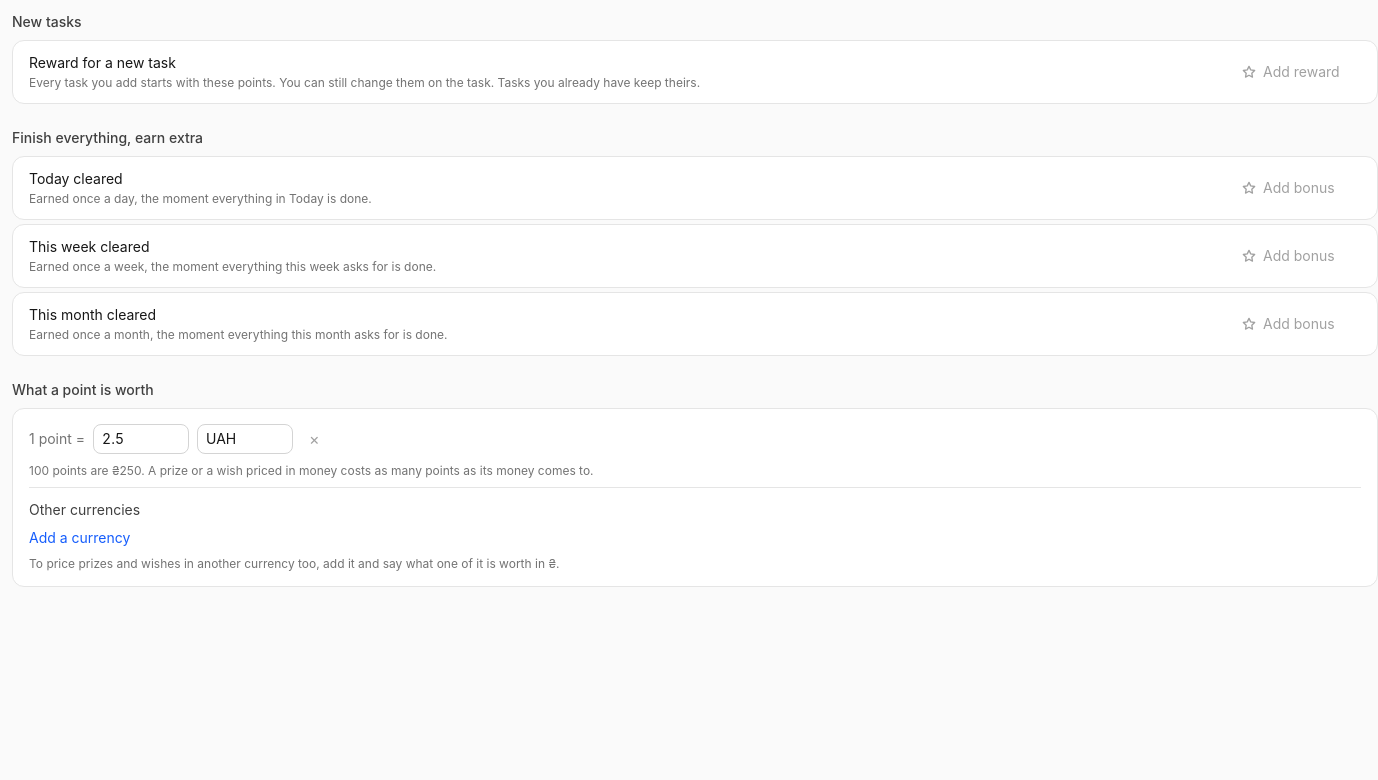
Test: what a point is worth (RWD-31) › puts a box saying something that is not a rate back to what is saved
This screenshot has width=1378, height=780.
Clear the number field named "Money one point is worth" at [141, 439], box [93,424,189,454]
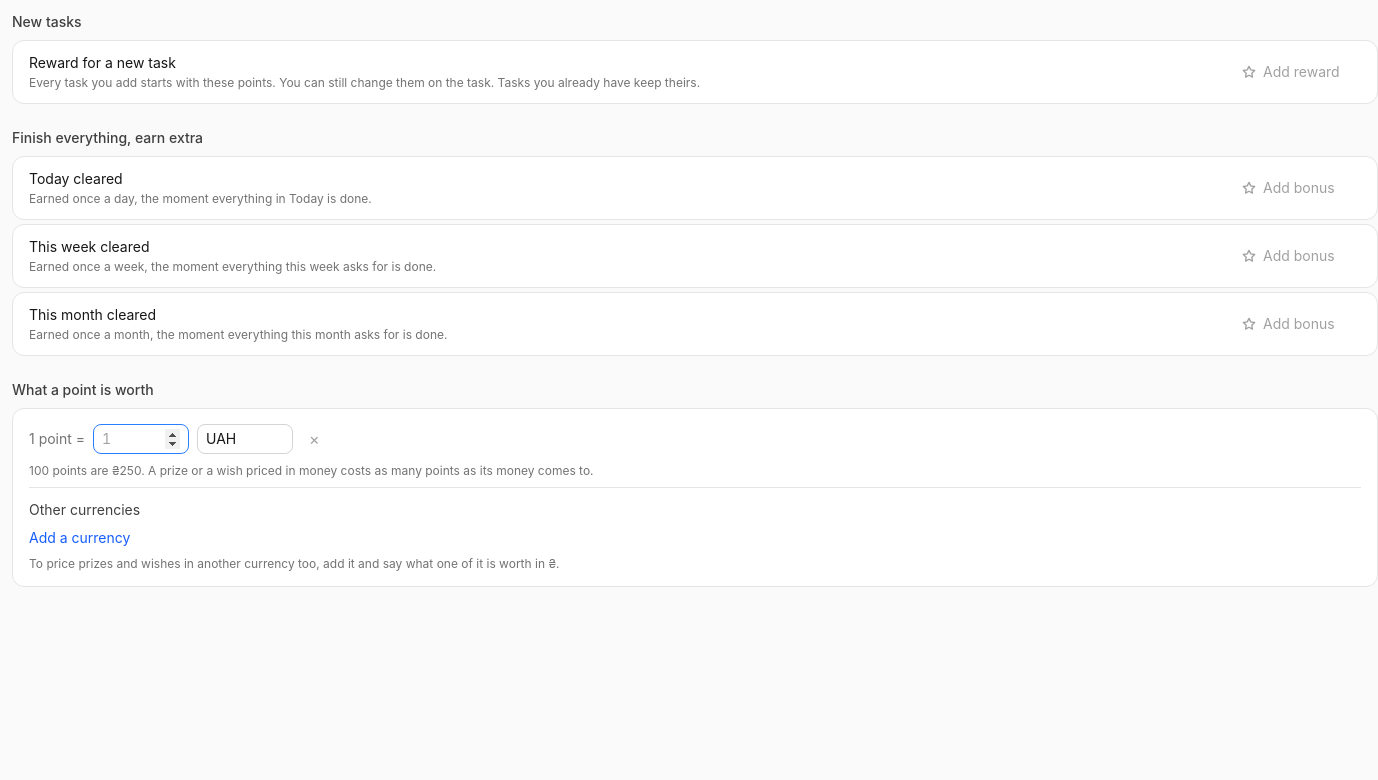
Press Tab
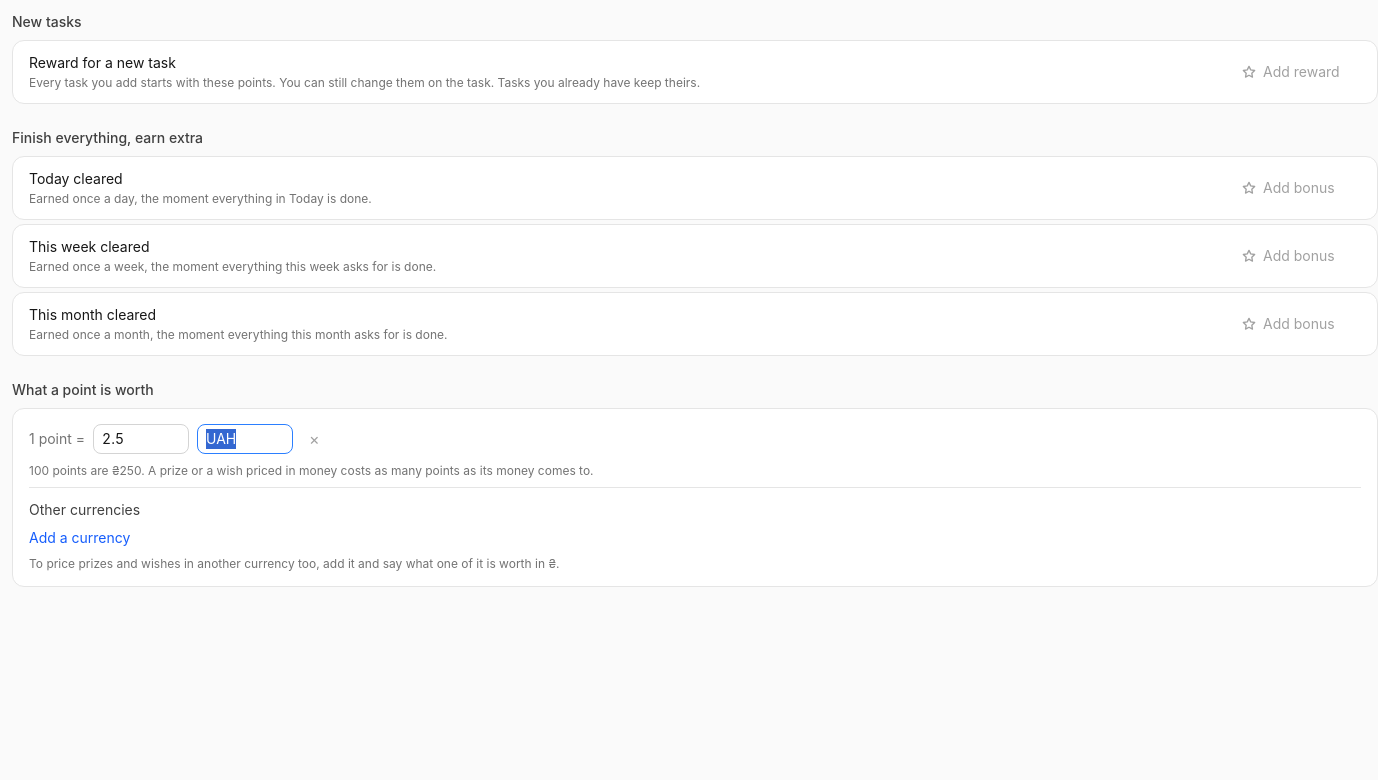
Check: the number field named "Money one point is worth" holds "2.5", box [93,424,189,454]
